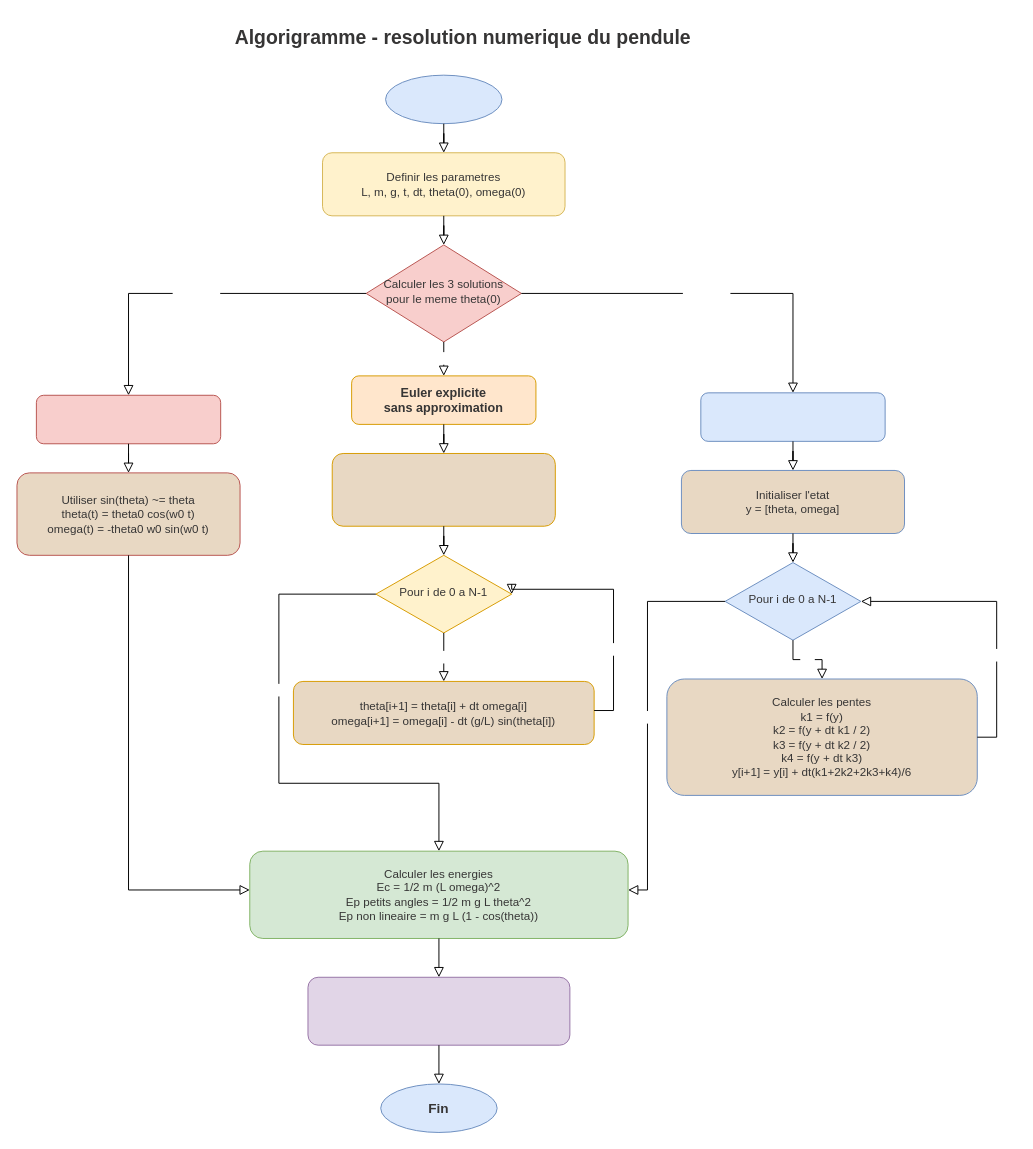
This 1033x1149 diagram has some shape labels left out. Each missing label, with the centre of its shape:
Debut: point 443,99
Initialiser les tableaux theta[0] = theta0 omega[0] = omega0: point 443,489
Petits angles solution theorique: point 128,419
Runge-Kutta 4 sans approximation: point 792,416
Tracer les comparaisons Ec(t), Ep(t) et animer les pendules: point 438,1010
